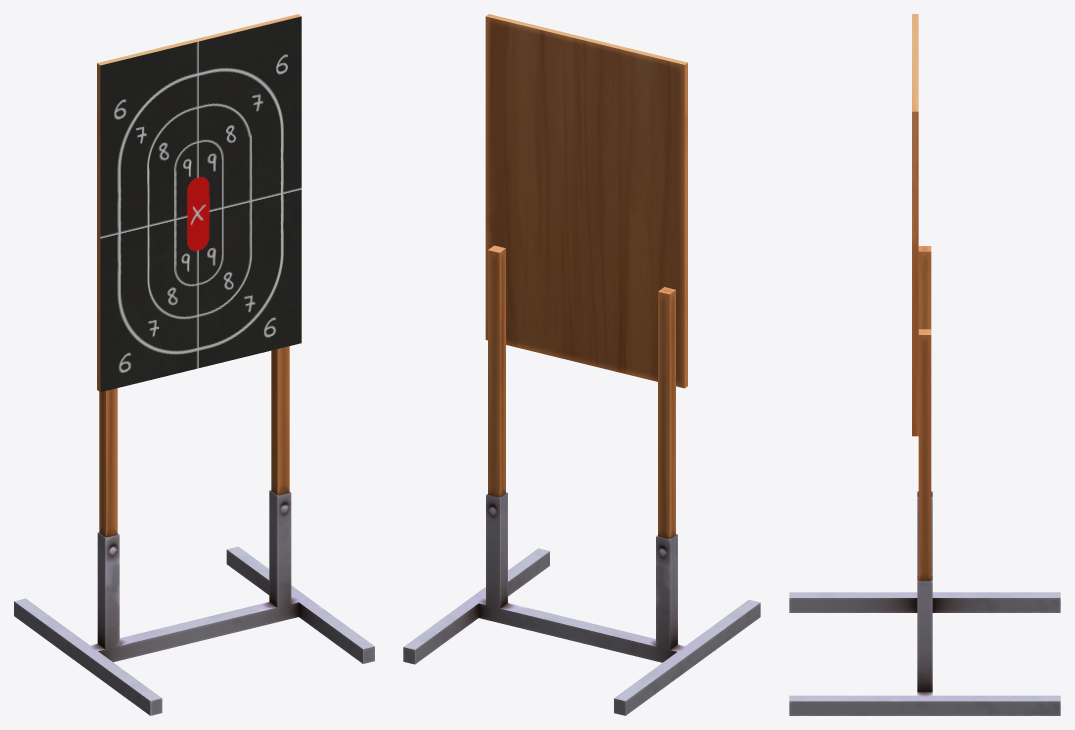
Rendered from Target01_2.FBX.
3 views of the same model, side by side, from view 1: azimuth 30°, elevation 25°; view 2: azimuth 150°, elevation 25°; view 3: azimuth 270°, elevation 25° (orthographic).
Visible parts, largest first — view 1: Target01_2; view 2: Target01_2; view 3: Target01_2.
Boxes of the visible parts, x1,y1,x2,y2 form: Target01_2: (14, 14, 374, 715); Target01_2: (403, 14, 760, 715); Target01_2: (789, 14, 1060, 715).
Size of what is drawn, in the model's own units: 0.6842 by 1.75 by 0.72.
